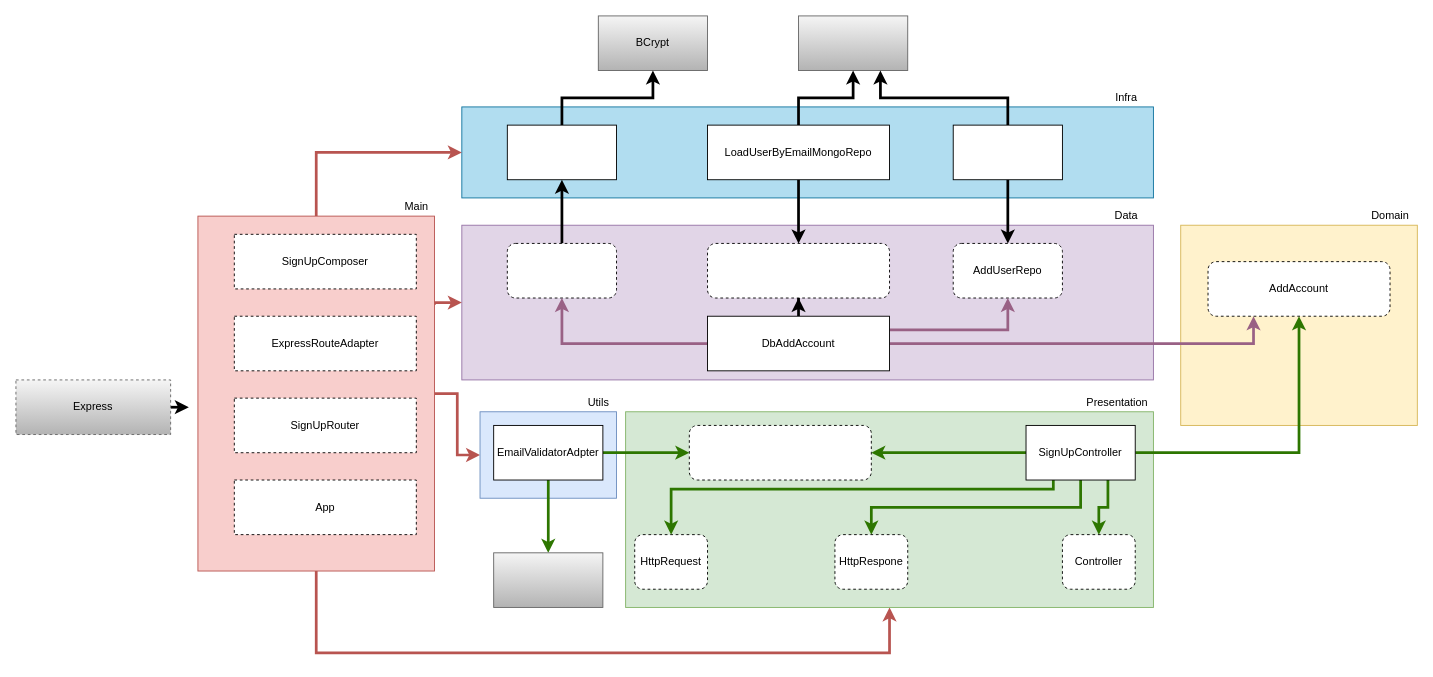
Image size: 1433x677. Some labels were removed from this diagram. Each missing label, with the centre of its shape:
"AddUserMongoRepo" goes at pixel 1007 152.
"BCryptAdpter" goes at pixel 561 152.
"EmailValidator" goes at pixel 779 452.
"Encrypter" goes at pixel 561 270.
"LoadUserByEmailRepo" goes at pixel 798 270.
"MongoDB" goes at pixel 853 43.
"Validator" goes at pixel 548 579.
